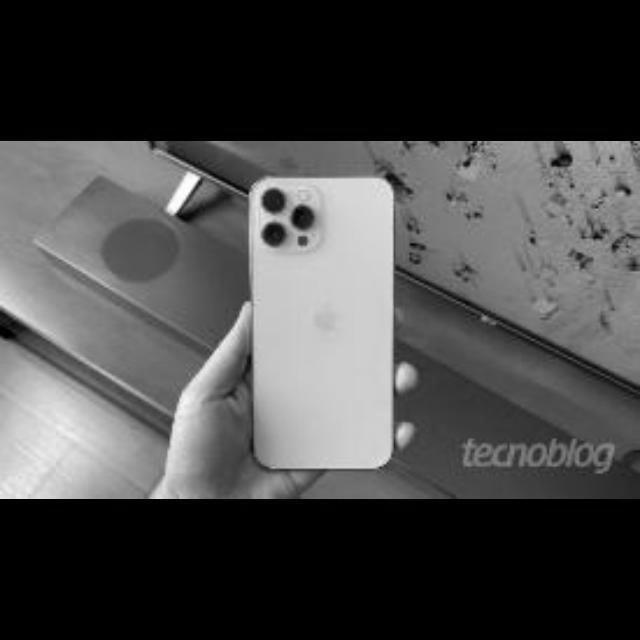fake: (232, 160, 416, 483)
